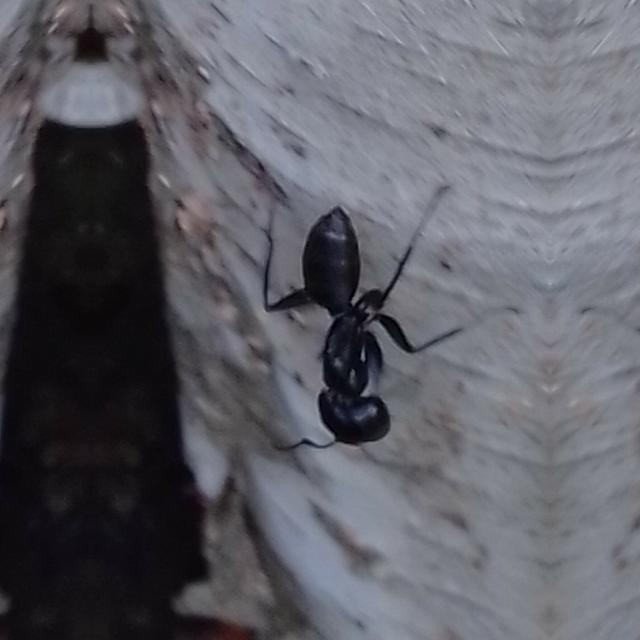Camponotus: (240, 200, 472, 482)
